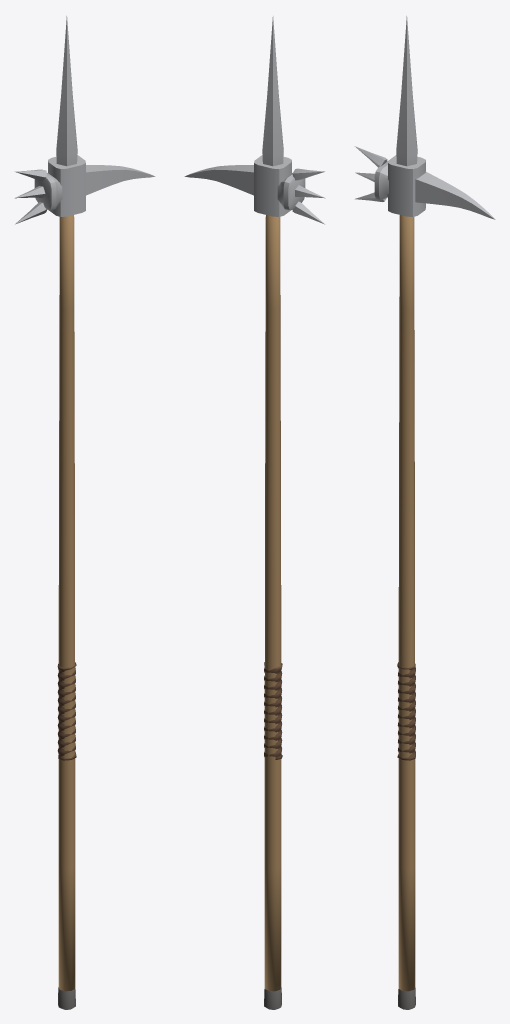
The model's file is lucerne-hammer.glb.
The picture shows the model from 3 angles, left to right: view 1: azimuth 30°, elevation 25°; view 2: azimuth 150°, elevation 25°; view 3: azimuth 330°, elevation 25°; orthographic projection.
Visible parts, largest first — view 1: lucerne-hammer; view 2: lucerne-hammer; view 3: lucerne-hammer.
Part boxes in pixels (<box>): lucerne-hammer: <box>14,16,155,1009</box>; lucerne-hammer: <box>184,16,325,1009</box>; lucerne-hammer: <box>354,16,495,1009</box>.
Bounding box in the file's own units: 0.805 × 5.39 × 0.1707.
